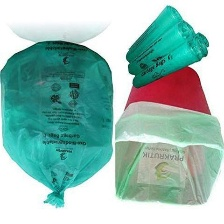plastic_bag: (0, 39, 121, 216), (111, 99, 224, 208), (127, 41, 211, 90), (125, 20, 194, 77), (123, 5, 183, 63), (183, 19, 216, 52)
